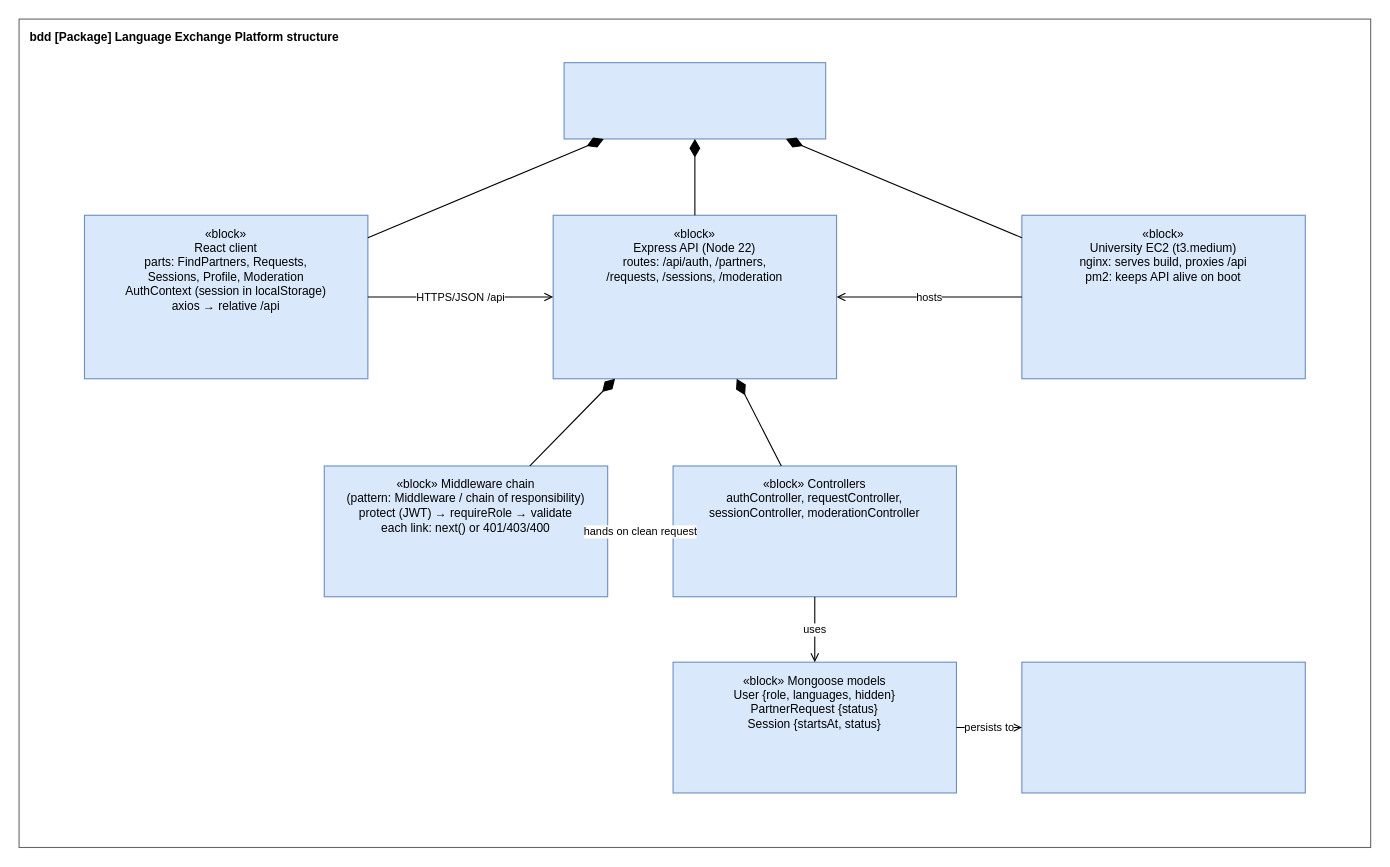
Image size: 1390x867. Some labels were removed from this diagram. Each missing label, with the centre of its shape:
"«block» Language Exchange Platform" belongs at point 694,100.
"«block» MongoDB Atlas (M0) collections: users, partnerrequests, sessions" belongs at point 1163,727.
